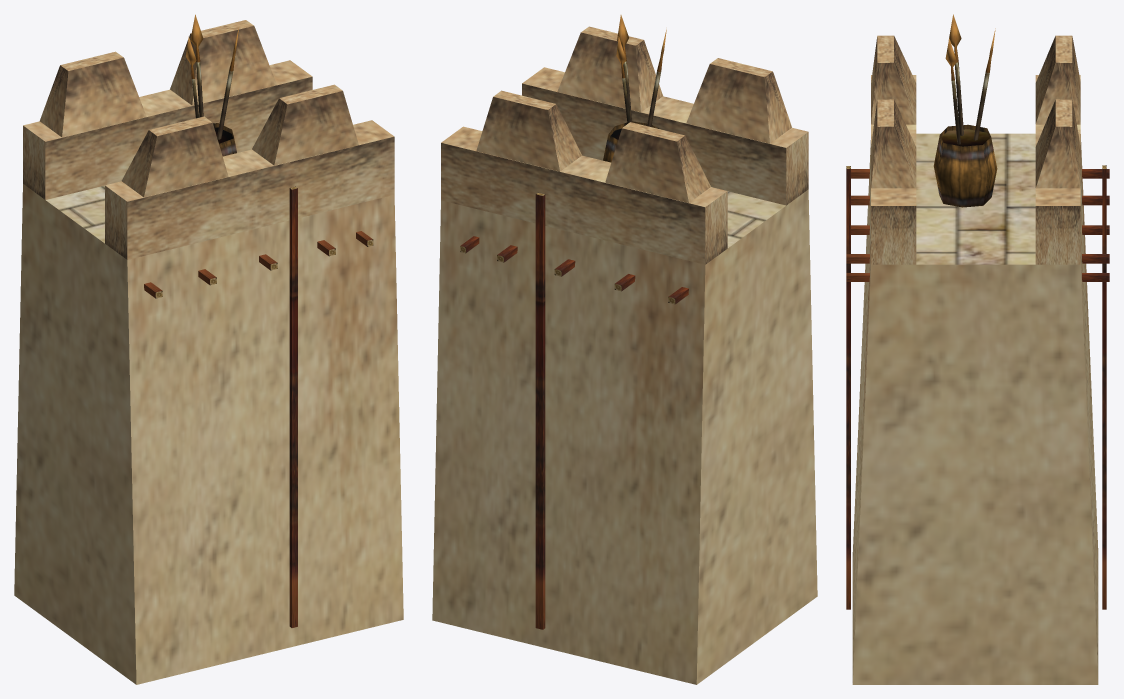
Rendered from wall_short.dae.
The picture shows the model from 3 angles, left to right: view 1: azimuth 30°, elevation 25°; view 2: azimuth 150°, elevation 25°; view 3: azimuth 270°, elevation 25°; orthographic projection.
Visible parts, largest first — view 1: wall_short; view 2: wall_short; view 3: wall_short.
Part boxes in pixels (<box>): wall_short: <box>14,14,403,684</box>; wall_short: <box>432,15,817,684</box>; wall_short: <box>846,14,1109,684</box>.
Size of the model in its own units: 8.68 by 7.36 by 18.22.
